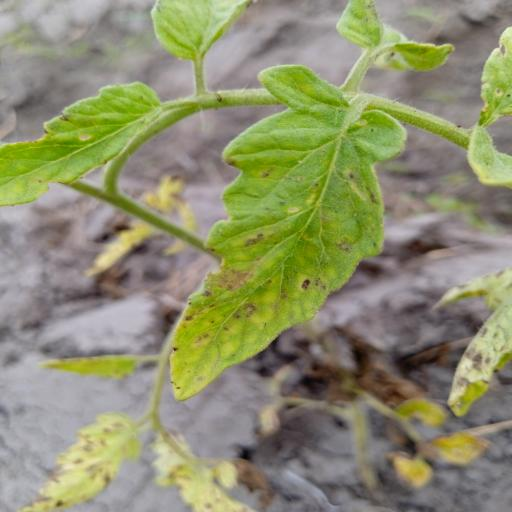Tomato_Brown_Spots: (162, 62, 414, 399), (0, 74, 172, 214)
